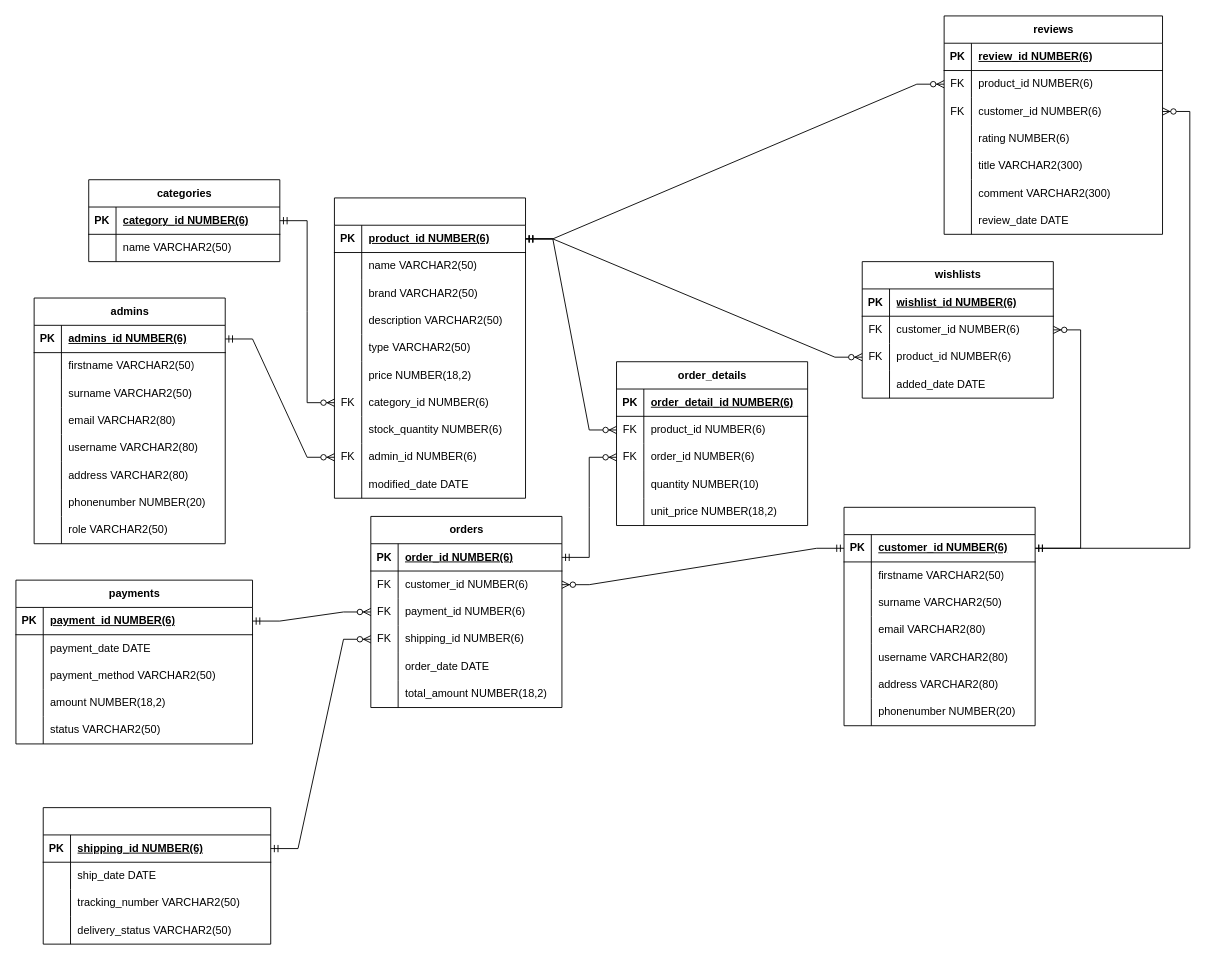
Image size: 1214x960. Some labels were removed from this diagram. Each missing label, with the box of its shape:
customers: (843, 506, 1035, 726)
products: (334, 197, 526, 498)
shippings: (42, 807, 271, 944)
